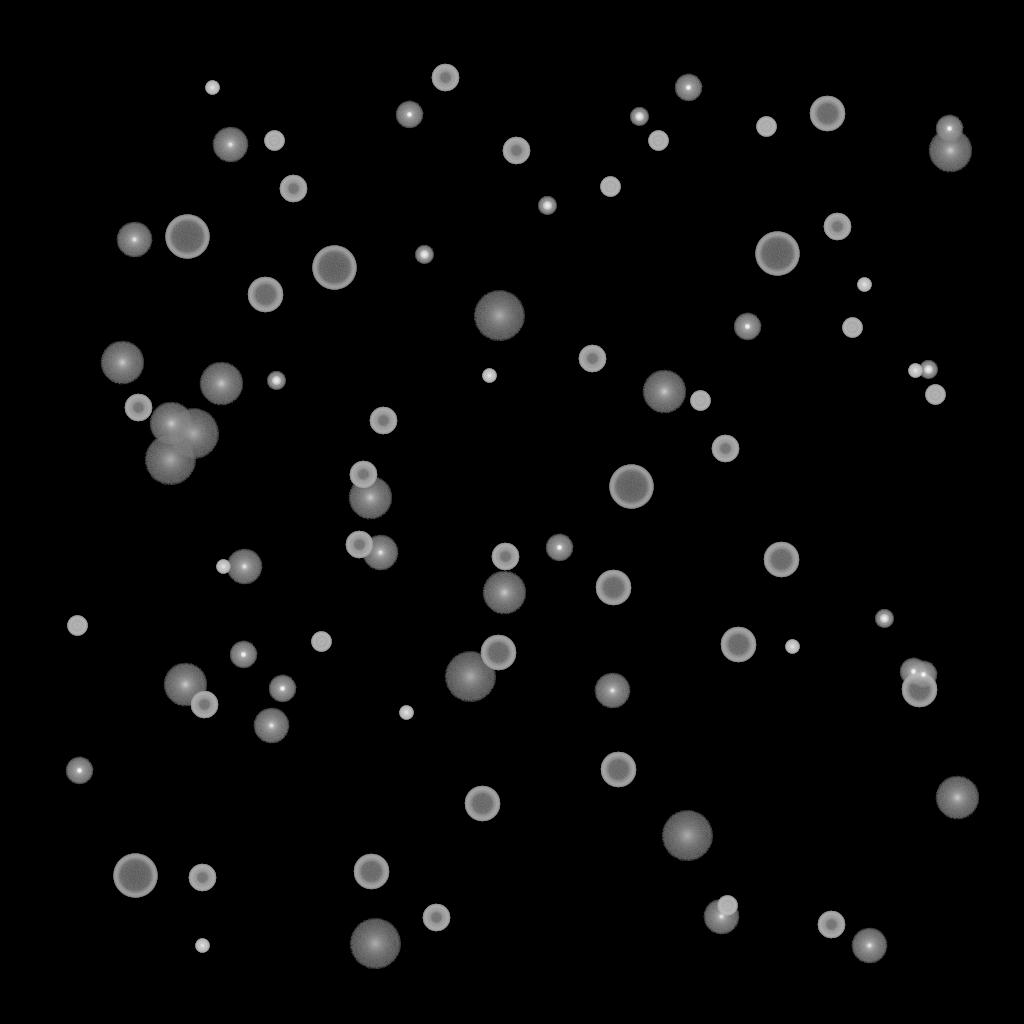depth:-10: (899, 658, 927, 686), (909, 661, 937, 689), (935, 115, 963, 143), (65, 757, 93, 785), (674, 74, 702, 102), (229, 641, 257, 669), (733, 313, 761, 341), (268, 675, 296, 703), (545, 534, 573, 562), (395, 101, 423, 129)
depth:-20: (919, 361, 937, 379), (630, 108, 648, 126), (875, 610, 893, 628), (267, 372, 285, 390), (538, 197, 556, 215), (415, 246, 433, 264)
depth:-30: (205, 81, 219, 95), (908, 364, 922, 378), (195, 939, 209, 953), (399, 706, 413, 720), (785, 640, 799, 654), (857, 278, 871, 292), (216, 560, 230, 574), (482, 369, 496, 383)
depth:-40: (756, 117, 776, 137), (648, 131, 668, 151), (67, 616, 87, 636), (925, 385, 945, 405), (600, 177, 620, 197), (690, 391, 710, 411), (264, 131, 284, 151), (311, 632, 331, 652), (717, 896, 737, 916), (842, 318, 862, 338)
depth:-50: (823, 213, 851, 241), (491, 543, 519, 571), (279, 175, 307, 203), (369, 407, 397, 435), (190, 691, 218, 719), (188, 864, 216, 892), (502, 137, 530, 165), (711, 435, 739, 463), (817, 911, 845, 939), (578, 345, 606, 373), (431, 64, 459, 92), (345, 531, 373, 559), (349, 461, 377, 489), (422, 904, 450, 932), (124, 394, 152, 422)
depth:-60: (809, 96, 845, 132), (763, 542, 799, 578), (247, 277, 283, 313), (595, 570, 631, 606), (720, 627, 756, 663), (600, 752, 636, 788), (480, 635, 516, 671), (901, 672, 937, 708), (353, 854, 389, 890), (464, 786, 500, 822)
depth:-70: (165, 215, 209, 259), (755, 232, 799, 276), (312, 246, 356, 290), (609, 465, 653, 509), (113, 854, 157, 898)
depth:0: (253, 708, 289, 744), (116, 222, 152, 258), (362, 535, 398, 571), (594, 673, 630, 709), (703, 899, 739, 935), (212, 127, 248, 163), (851, 928, 887, 964), (226, 549, 262, 585)
depth:10: (163, 663, 207, 707), (348, 476, 392, 520), (928, 129, 972, 173), (935, 776, 979, 820), (100, 341, 144, 385), (482, 571, 526, 615), (199, 362, 243, 406), (642, 370, 686, 414), (149, 402, 193, 446)
depth:20: (444, 652, 496, 702), (473, 291, 525, 341), (167, 409, 219, 459), (661, 811, 713, 861), (349, 919, 401, 969), (144, 435, 196, 485)
